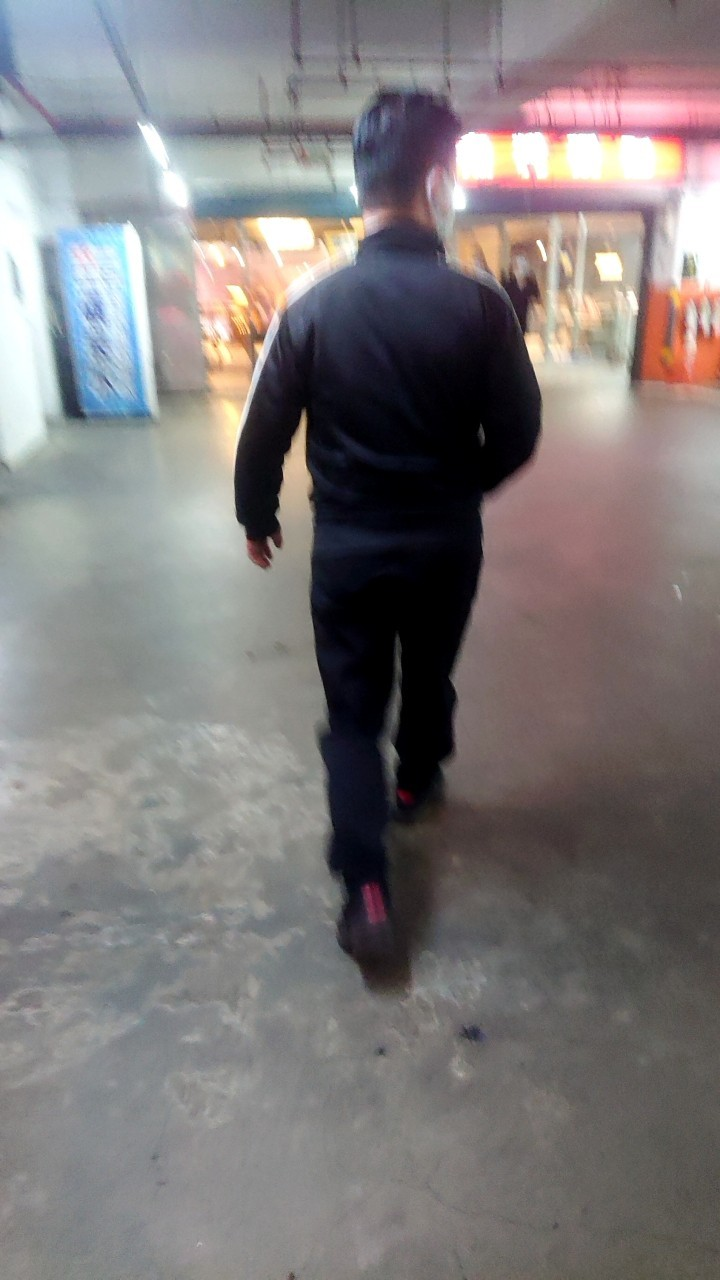people: (240, 84, 544, 963)
